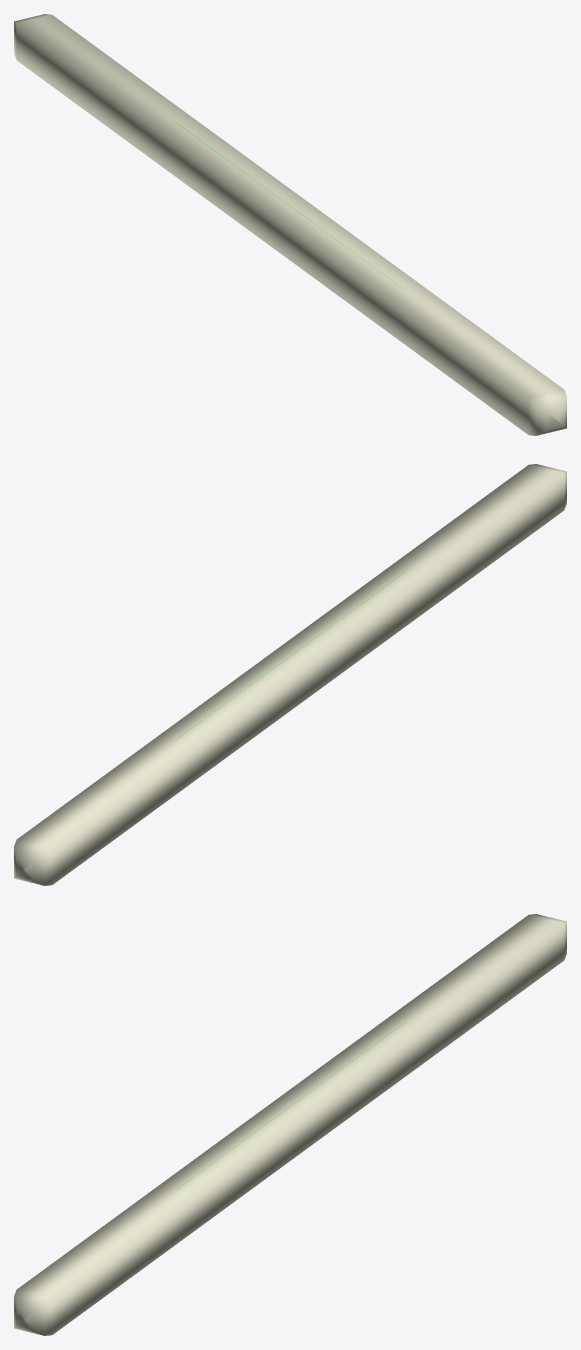
Rendered from fortigate.glb.
3 renders of one model, top to bottom at view 1: azimuth 30°, elevation 25°; view 2: azimuth 150°, elevation 25°; view 3: azimuth 330°, elevation 25°, orthographic.
Visible parts, largest first — view 1: Curve; view 2: Curve; view 3: Curve.
Boxes of the visible parts, x1=… form: Curve: x1=14, y1=14, x2=566, y2=435; Curve: x1=14, y1=464, x2=566, y2=885; Curve: x1=14, y1=914, x2=566, y2=1335.
Size of the model in its own units: 3303 by 3333 by 85883.
